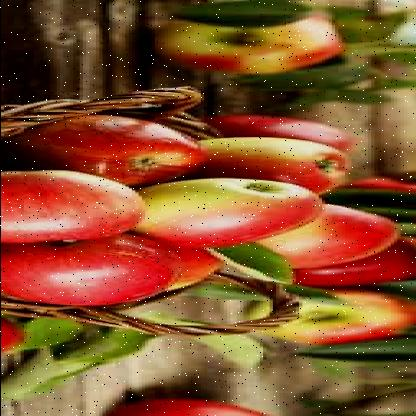apple: (128, 178, 324, 249), (20, 113, 214, 184), (3, 236, 180, 308), (3, 168, 154, 244), (154, 15, 338, 74), (249, 205, 403, 275), (200, 139, 348, 194), (275, 292, 406, 350)
